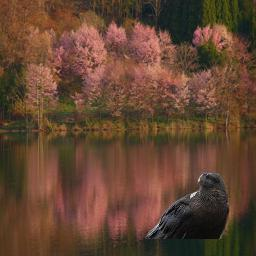Crow: (144, 171, 231, 239)
